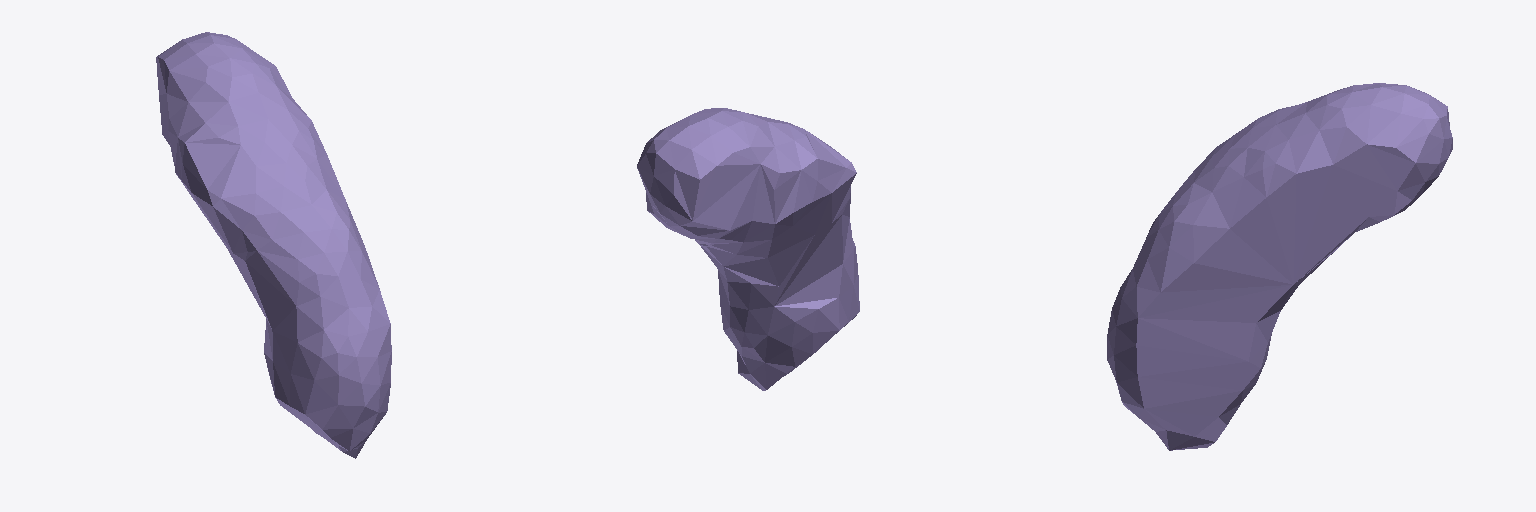
File: Model_10345_LH__Paraventricular_thalamic_nucleus_(PV).obj
The picture shows the model from 3 angles: view 1: azimuth 30°, elevation 25°; view 2: azimuth 150°, elevation 25°; view 3: azimuth 270°, elevation 25°; orthographic projection.
Size of the model in its own units: 0.4233 by 1.06 by 0.9599.